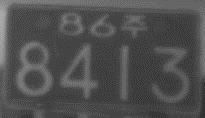1: (107, 43, 142, 103)
3: (150, 45, 190, 104)
4: (60, 41, 98, 101)
6: (89, 12, 117, 38)
8: (14, 40, 54, 98), (58, 11, 84, 37)
주: (119, 13, 149, 37)
